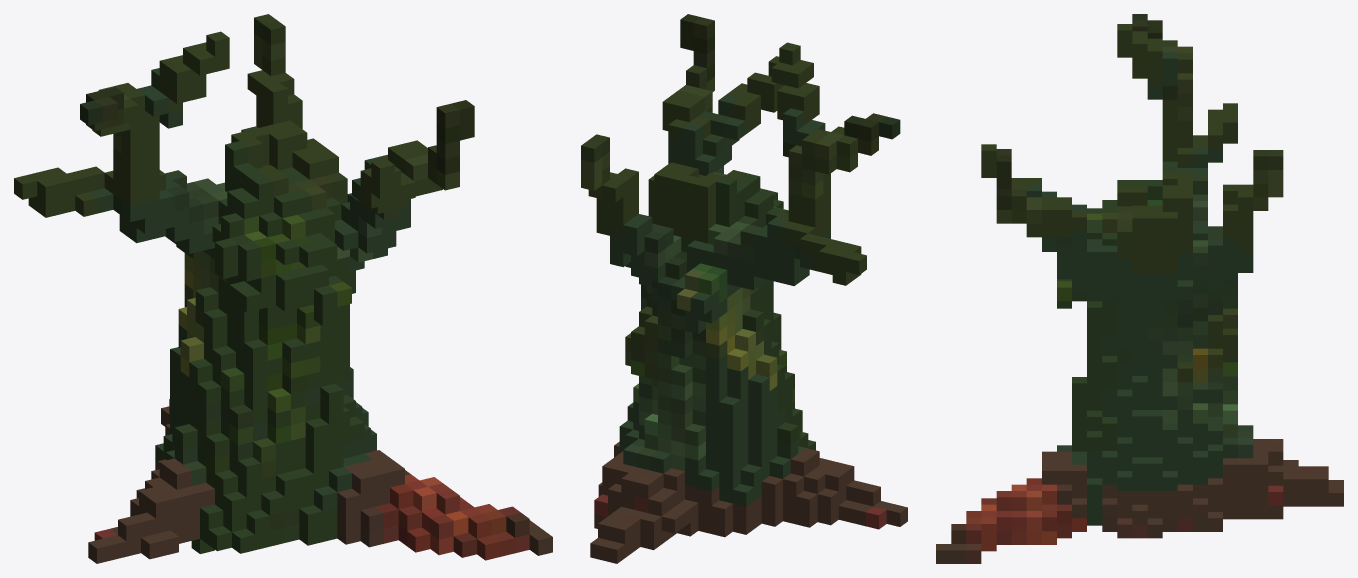
File: tree 2 (death).obj
The picture shows the model from 3 angles, left to right: view 1: azimuth 30°, elevation 25°; view 2: azimuth 150°, elevation 25°; view 3: azimuth 270°, elevation 25°; orthographic projection. The views are drawn at different scales.
Bounding box in the file's own units: 2.5 × 3.3 × 2.7.
Materials: 1 (1 with a texture image).
